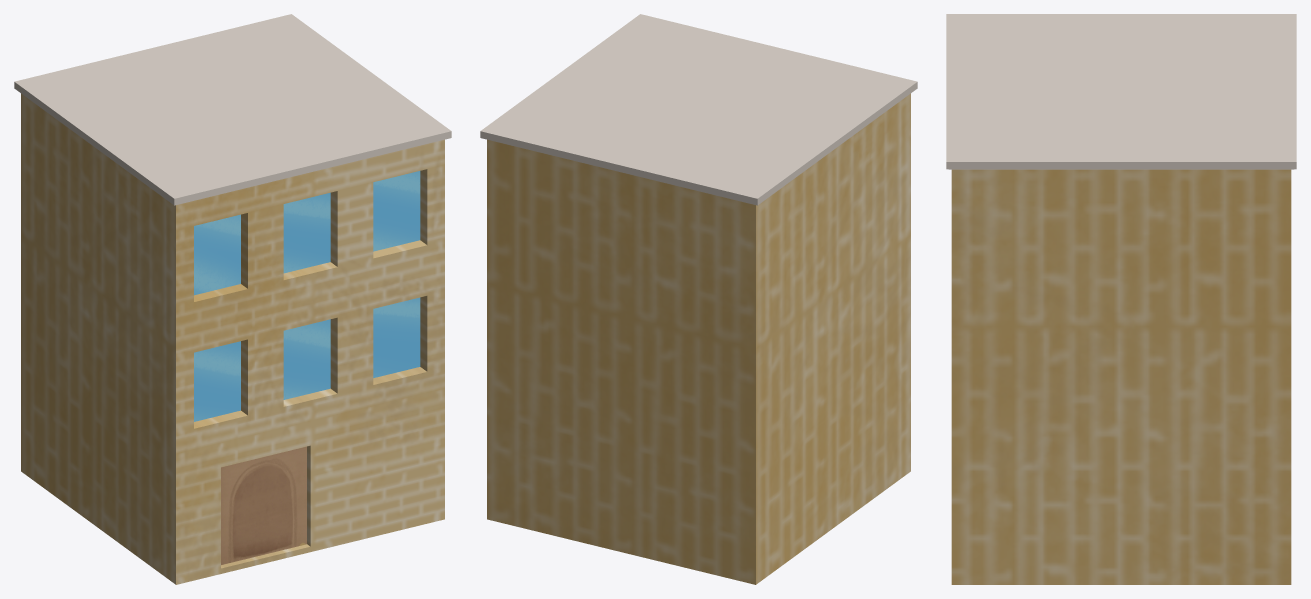
The model's file is SM_cassa_1.fbx.
3 renders of one model, left to right at view 1: azimuth 30°, elevation 25°; view 2: azimuth 150°, elevation 25°; view 3: azimuth 270°, elevation 25°, orthographic. The views are drawn at different scales.
Visible parts, largest first — view 1: Casa_0.008; view 2: Casa_0.008; view 3: Casa_0.008.
Boxes of the visible parts, bbox=[...] form: Casa_0.008: bbox=[14, 14, 451, 584]; Casa_0.008: bbox=[480, 14, 917, 584]; Casa_0.008: bbox=[946, 14, 1296, 584].
Bounding box in the file's own units: 692 × 927 × 692.
